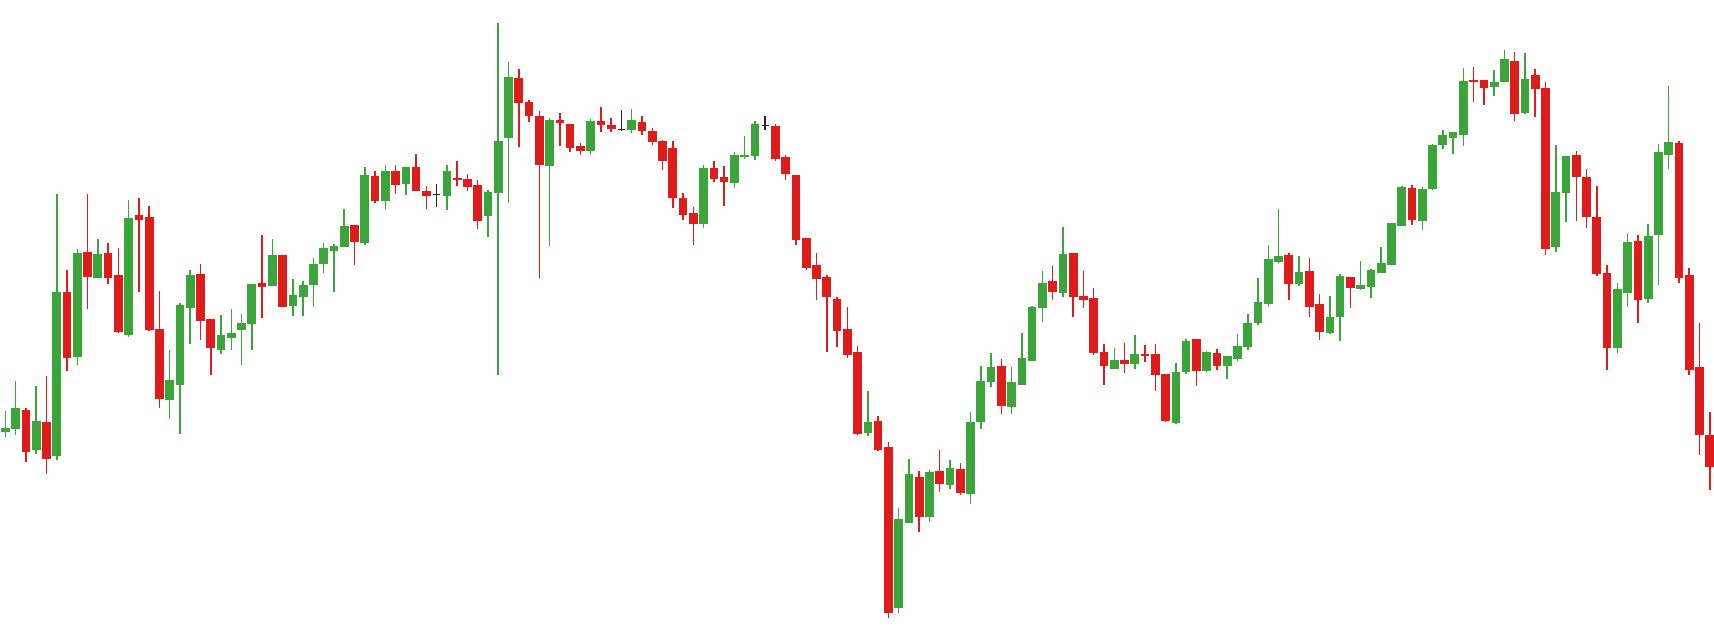buy: (61, 216, 186, 438), (1097, 340, 1181, 426)
sell: (1561, 88, 1675, 231)
